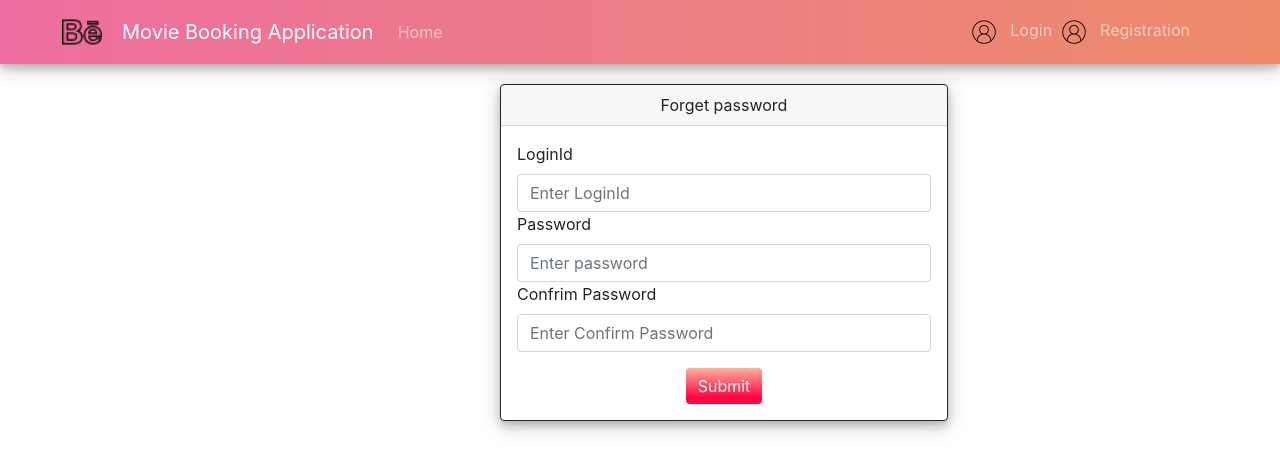
Test: Forget Password Component › should display error message for non-matching passwords
The image size is (1280, 475).
Type "exampleuser" into the field with placeholder "Enter LoginId".
click(724, 193); type("exampleuser")  # box [517,174,931,212]
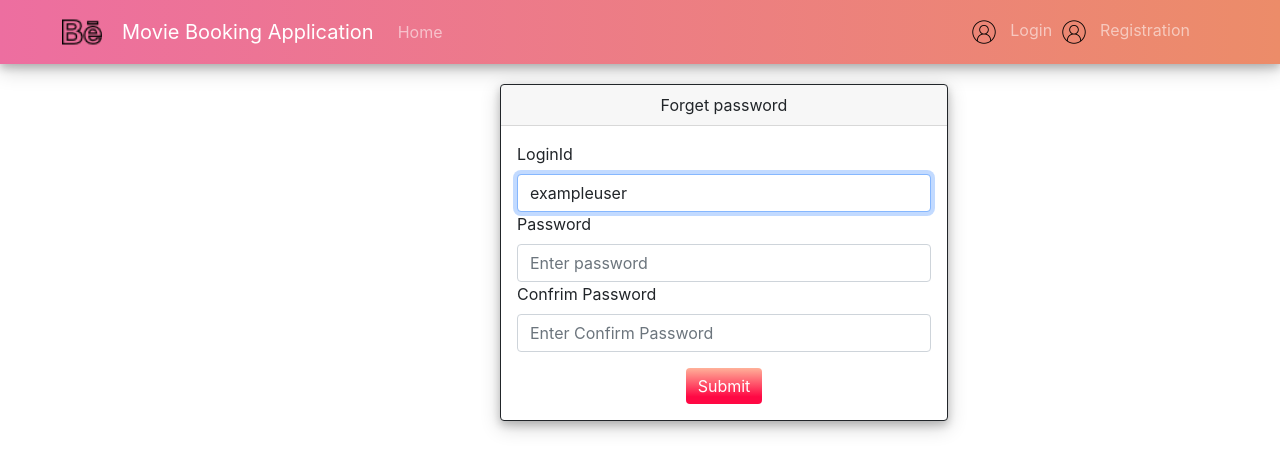
Type "Password@123" into the password field with placeholder "Enter password".
click(724, 263); type("Password@123")  # box [517,244,931,282]
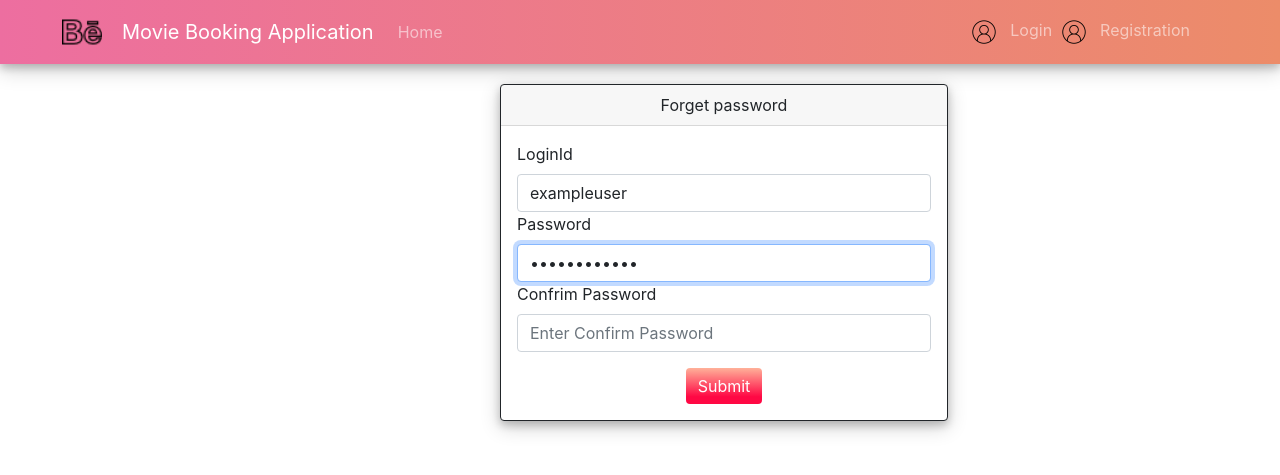
Type "Passwor@123" into the password field with placeholder "Enter Confirm Password".
click(724, 333); type("Passwor@123")  # box [517,314,931,352]
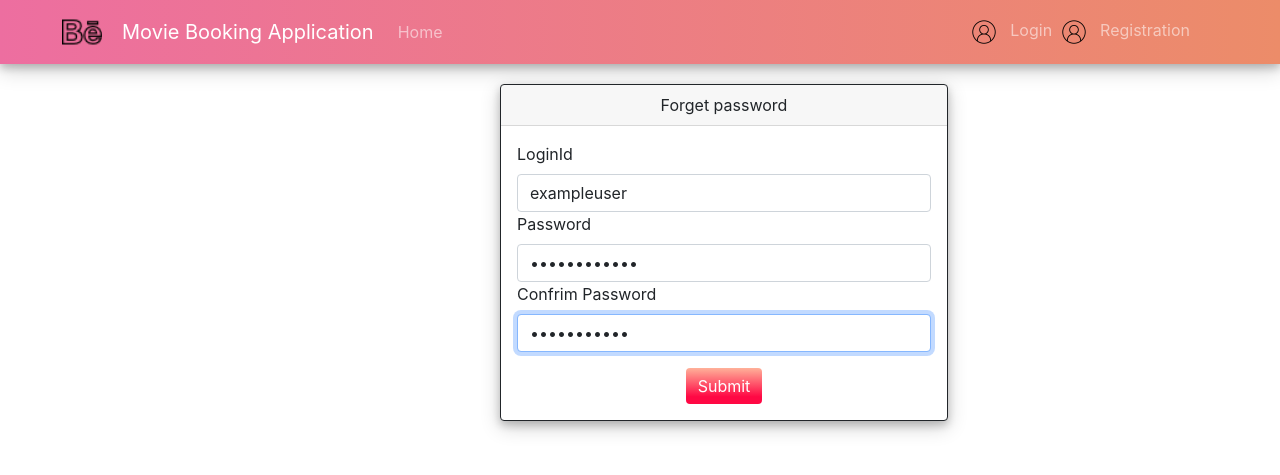
Click the submit button.
click(725, 386)  # box [686,368,763,404]
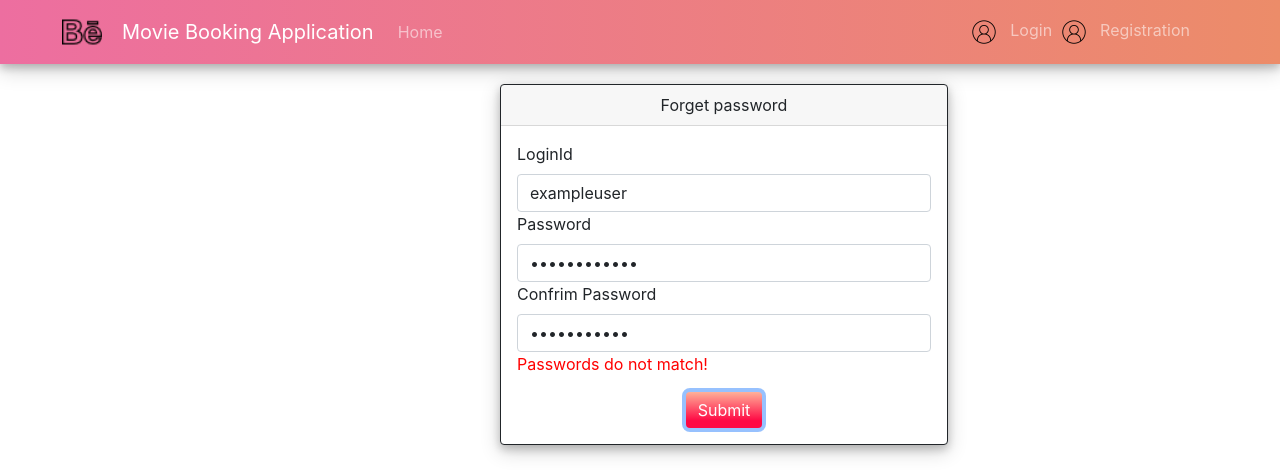
Expected: the text "Passwords do not match!" is shown, [517,354,708,374]
